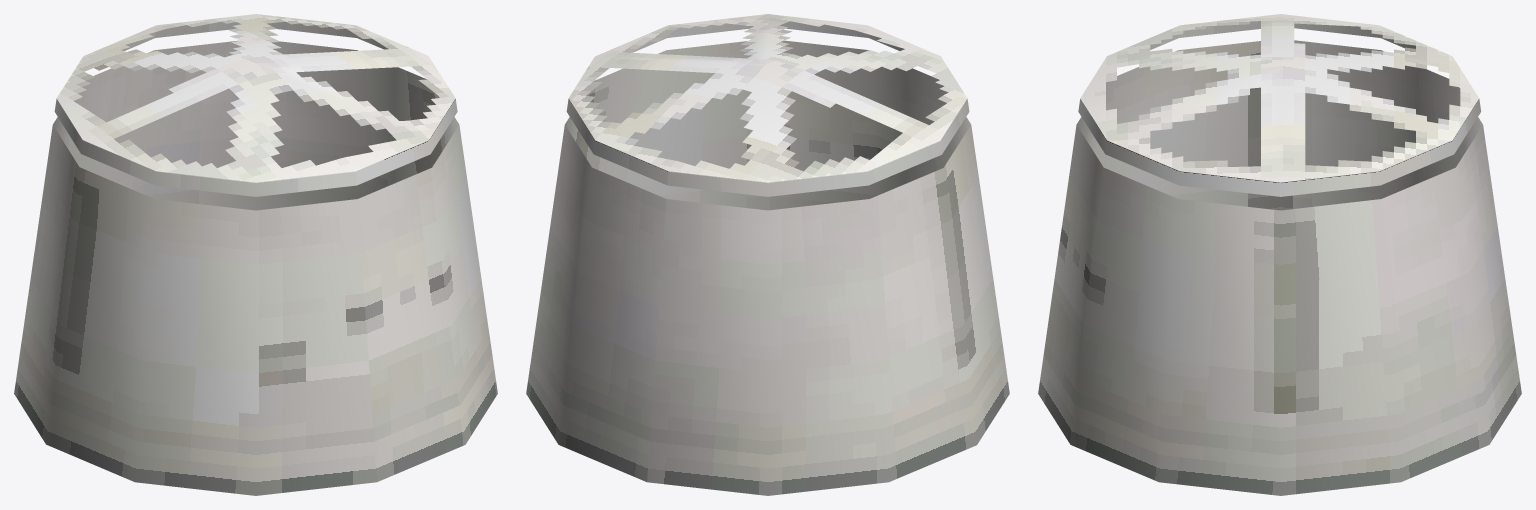
Rendered from poi_r5_head_l3.fbx.
The picture shows the model from 3 angles, left to right: view 1: azimuth 30°, elevation 25°; view 2: azimuth 150°, elevation 25°; view 3: azimuth 270°, elevation 25°; orthographic projection.
Visible parts, largest first — view 1: mesh_node; view 2: mesh_node; view 3: mesh_node.
Part boxes in pixels (box(x1,y1,x2,y2)): mesh_node: box(14, 14, 497, 495); mesh_node: box(526, 14, 1009, 495); mesh_node: box(1038, 14, 1521, 495).
Bounding box in the file's own units: 0.3999 × 0.3002 × 0.3999.
